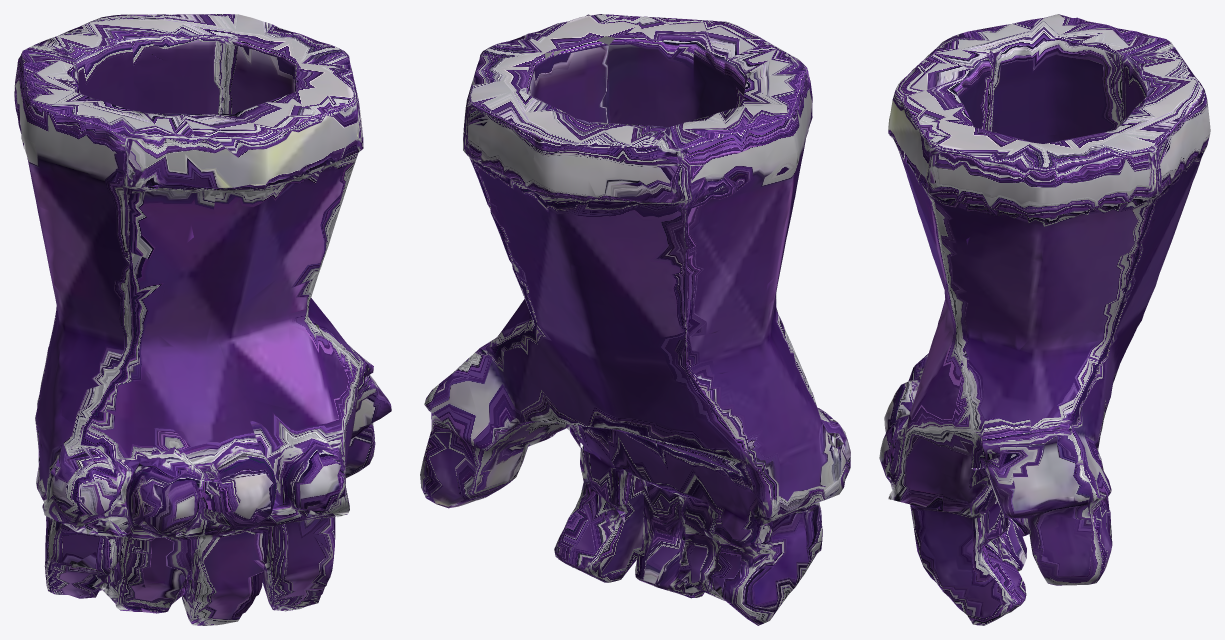
The model's file is amethyst_glove_A.glb.
The picture shows the model from 3 angles, left to right: view 1: azimuth 30°, elevation 25°; view 2: azimuth 150°, elevation 25°; view 3: azimuth 270°, elevation 25°; orthographic projection. The views are drawn at different scales.
Size of the model in its own units: 0.2001 by 0.2882 by 0.171.
1 material, 1 textured.
